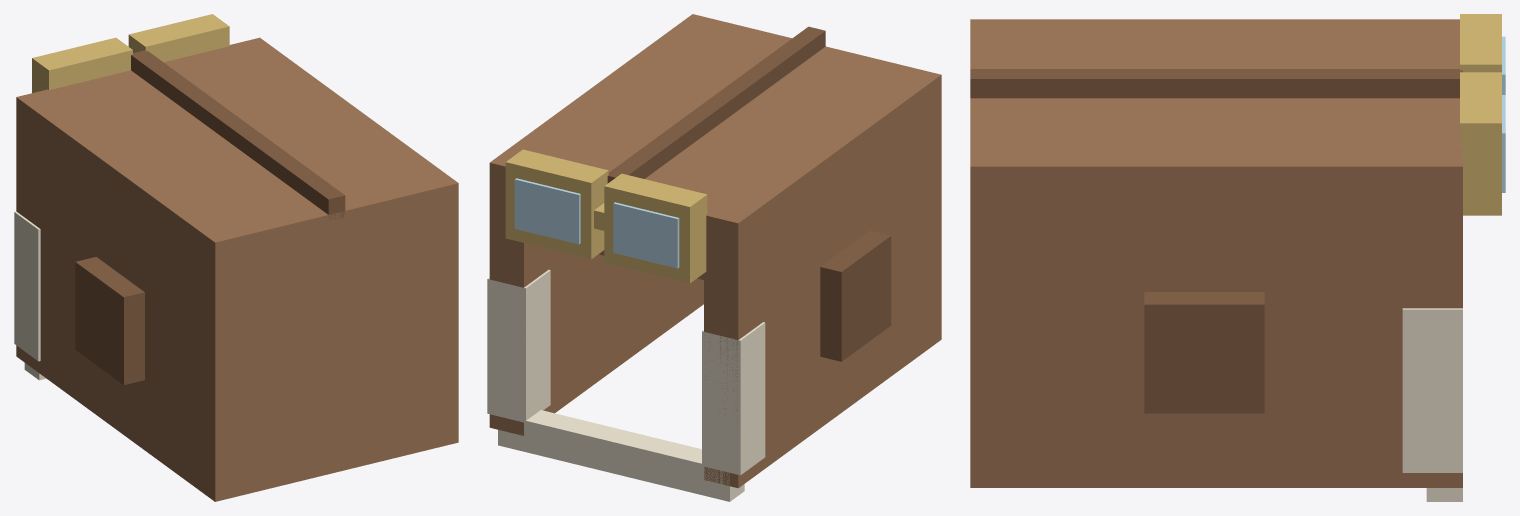
The model's file is capacete_aviador.glb.
3 views of the same model, side by side, from view 1: azimuth 30°, elevation 25°; view 2: azimuth 150°, elevation 25°; view 3: azimuth 270°, elevation 25° (orthographic). The views are drawn at different scales.
Parts seen in each view (by area): view 1: capacete_aviador; view 2: capacete_aviador; view 3: capacete_aviador.
Part boxes in pixels (box(x1,y1,x2,y2)): capacete_aviador: box(14, 14, 458, 501); capacete_aviador: box(487, 14, 941, 501); capacete_aviador: box(970, 14, 1505, 501).
Size of the model in its own units: 0.68 by 0.67 by 0.8915.
